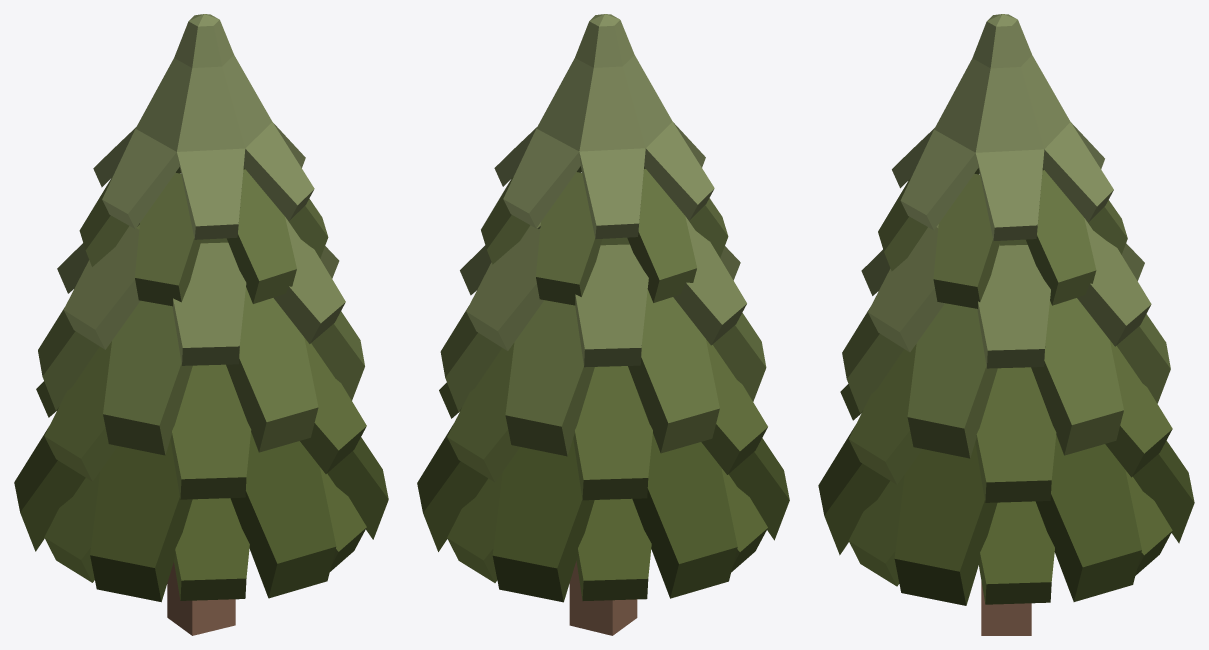
File: fir_tree_25.fbx
3 views of the same model, side by side, from view 1: azimuth 30°, elevation 25°; view 2: azimuth 150°, elevation 25°; view 3: azimuth 270°, elevation 25° (orthographic).
Parts seen in each view (by area): view 1: fir_tree_25; view 2: fir_tree_25; view 3: fir_tree_25.
Boxes of the visible parts, left/top/right/bottom form: fir_tree_25: left=14, top=14, right=388, bottom=635; fir_tree_25: left=417, top=14, right=789, bottom=635; fir_tree_25: left=818, top=14, right=1194, bottom=635.
Size of the model in its own units: 280 by 515 by 287.
